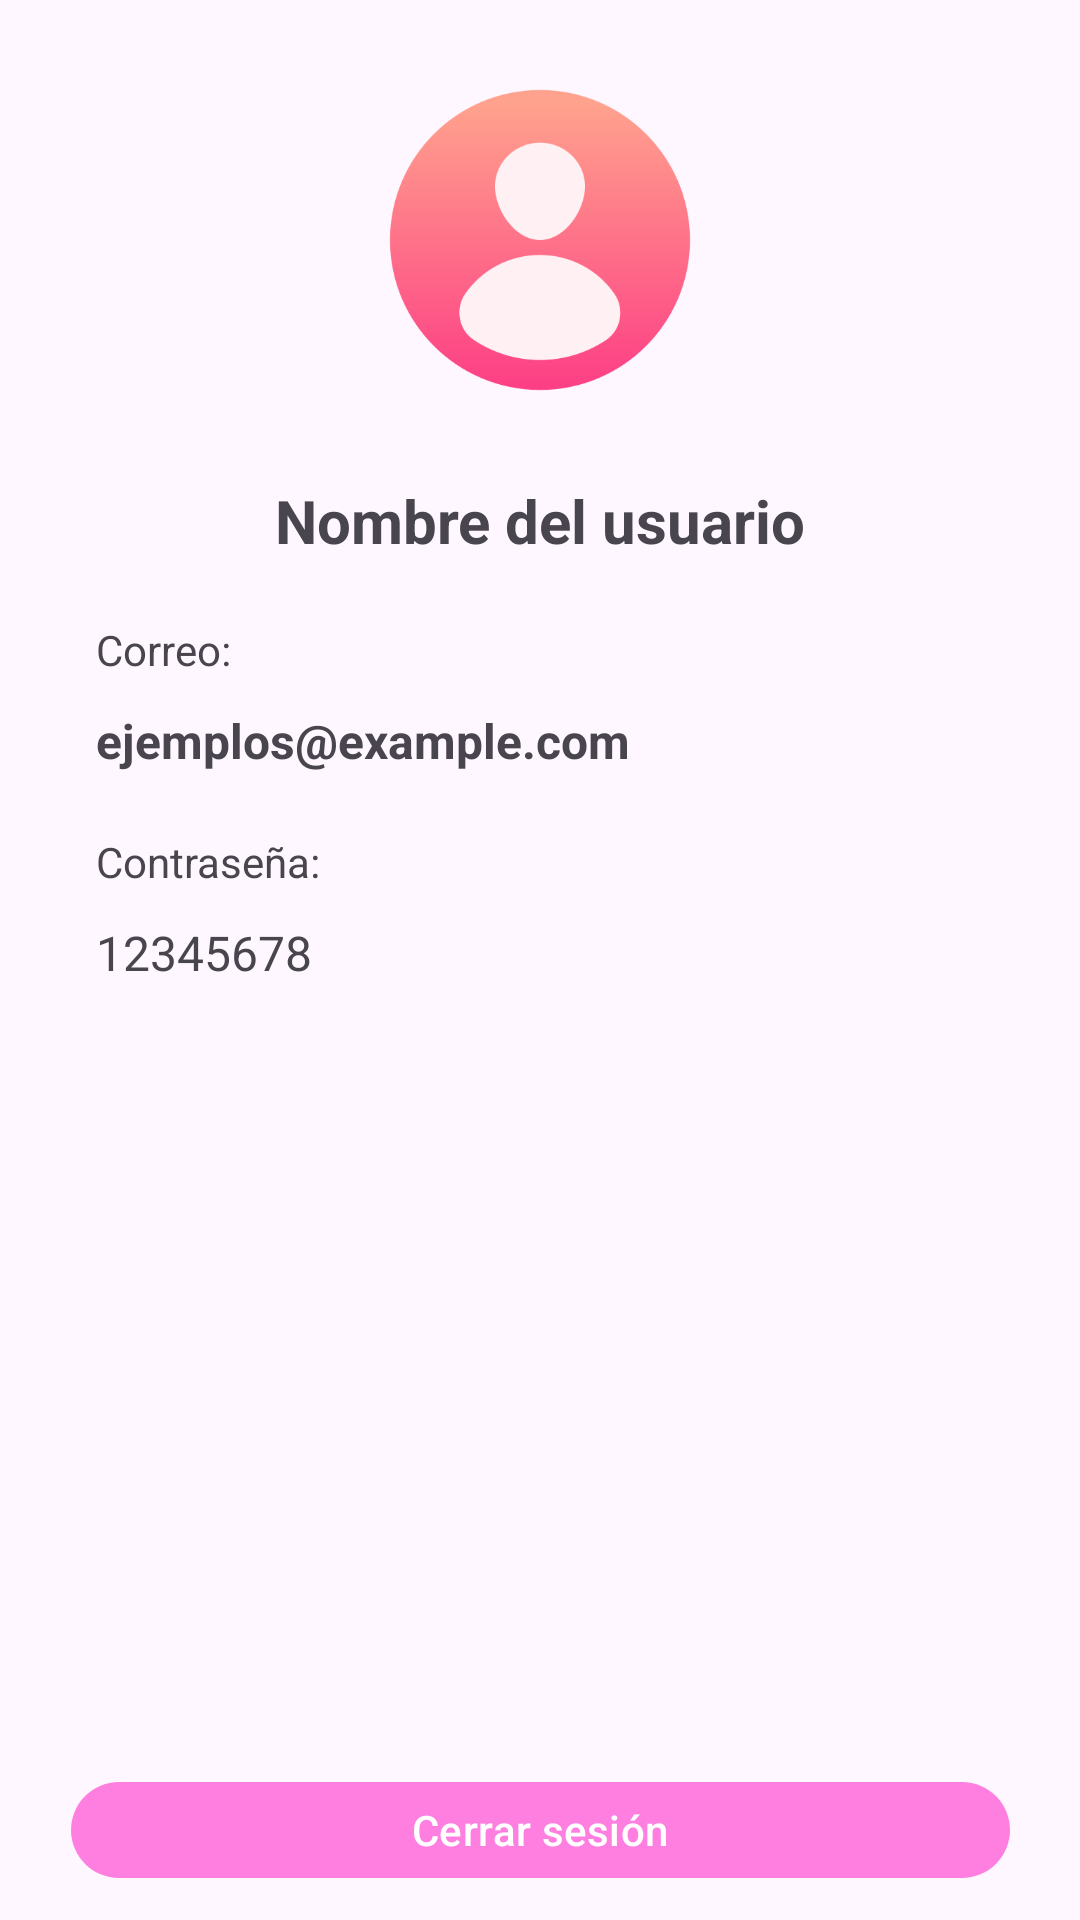

Icon bounding boxes for this 1080px x 1920px phone screenshot, format region(x1, y1, x2, y2):
Foto de perfil: region(390, 90, 690, 391)
